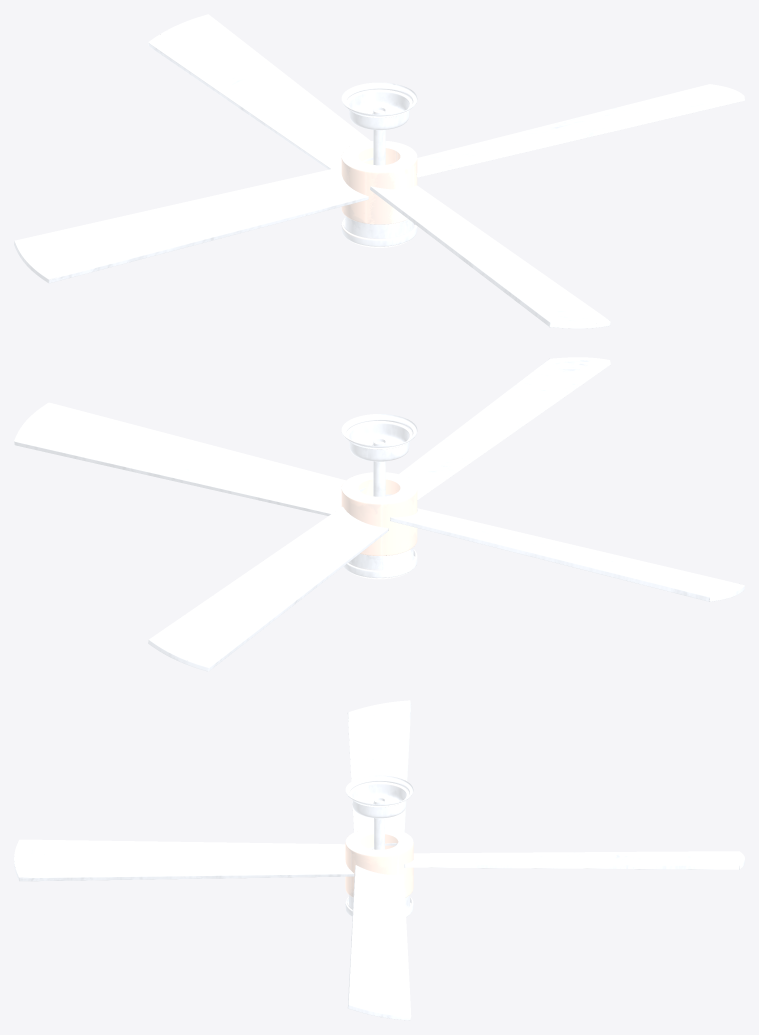
File: ceiling with fan.fbx
3 views of the same model, one above another, from view 1: azimuth 30°, elevation 25°; view 2: azimuth 150°, elevation 25°; view 3: azimuth 270°, elevation 25° (orthographic). The views are drawn at different scales.
Visible parts, largest first — view 1: Bakegroup_BAKED; view 2: Bakegroup_BAKED; view 3: Bakegroup_BAKED.
Boxes of the visible parts, x1,y1,x2,y2 form: Bakegroup_BAKED: (14, 14, 744, 328); Bakegroup_BAKED: (14, 357, 744, 671); Bakegroup_BAKED: (14, 700, 744, 1020).
Bounding box in the file's own units: 702 × 132 × 702.
